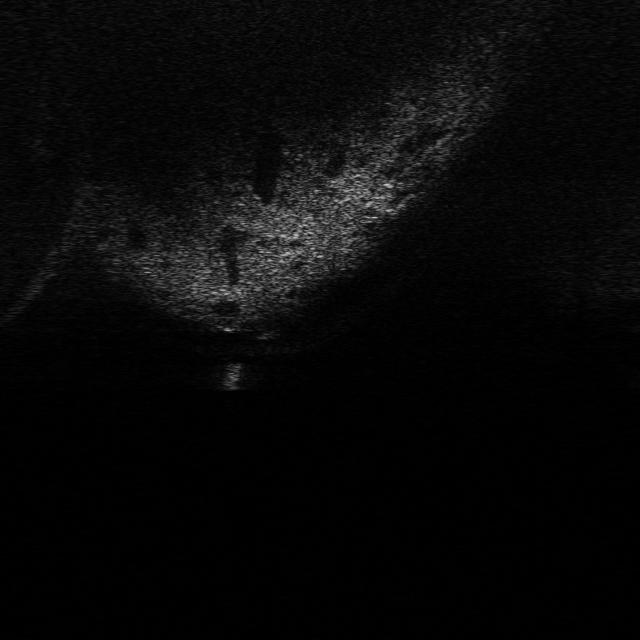cube: (248, 317, 286, 340)
cylinder: (218, 358, 243, 391)
